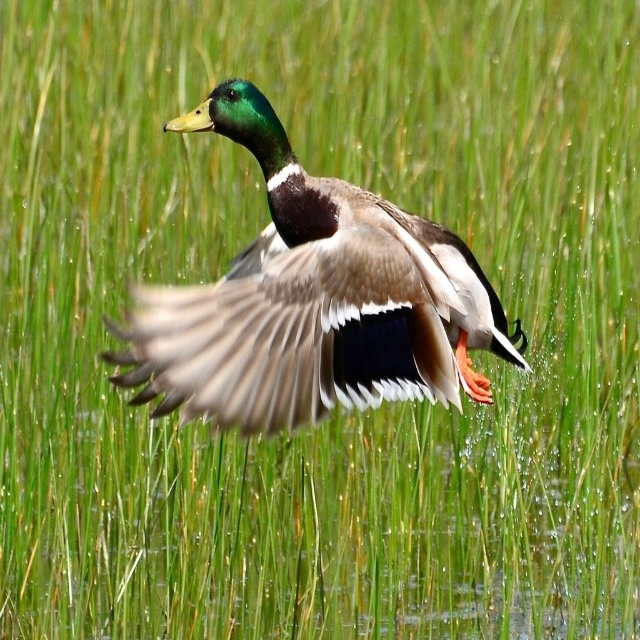Goose: (101, 82, 534, 443)
